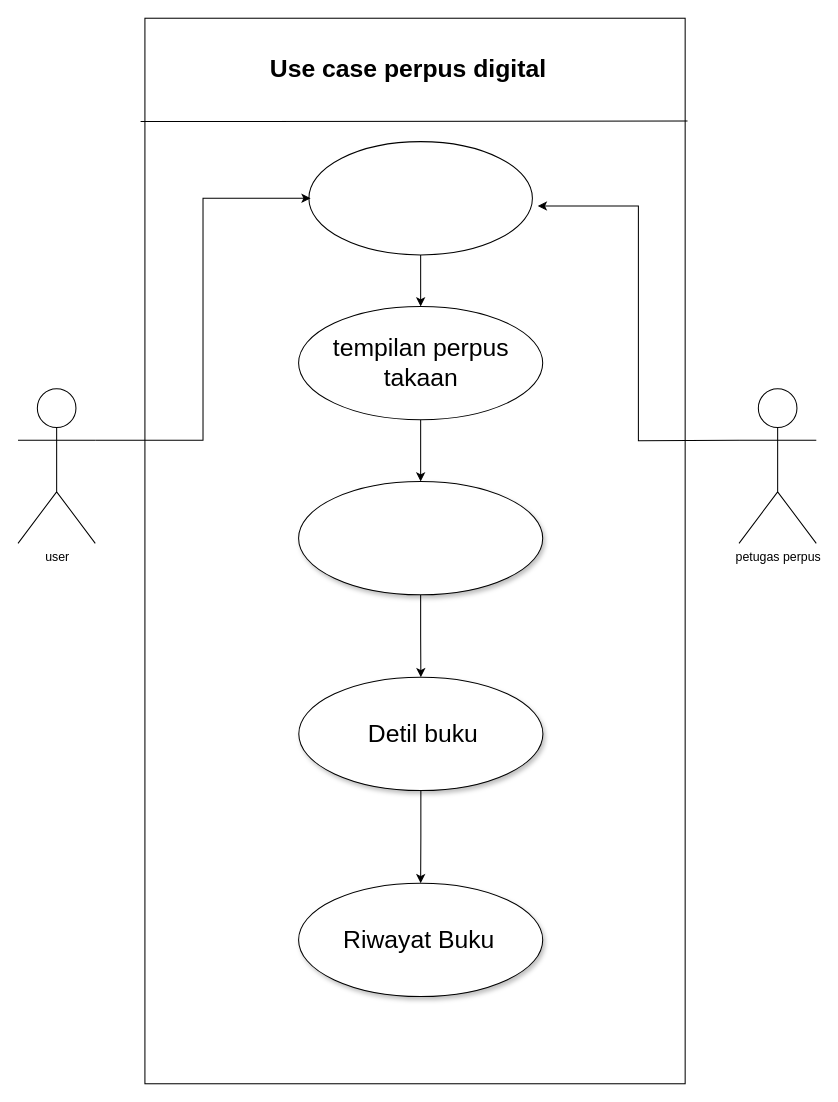
The diagram is 838 pixels wide and 1102 high, and some of its shapes have lost their labels. The shapes that lost their labels are listed below. From the top down, each one's centre as x and y in pixels, then its label:
At pixel 420 198: "form pengunjung".
At pixel 421 539: "pencarian buku".
